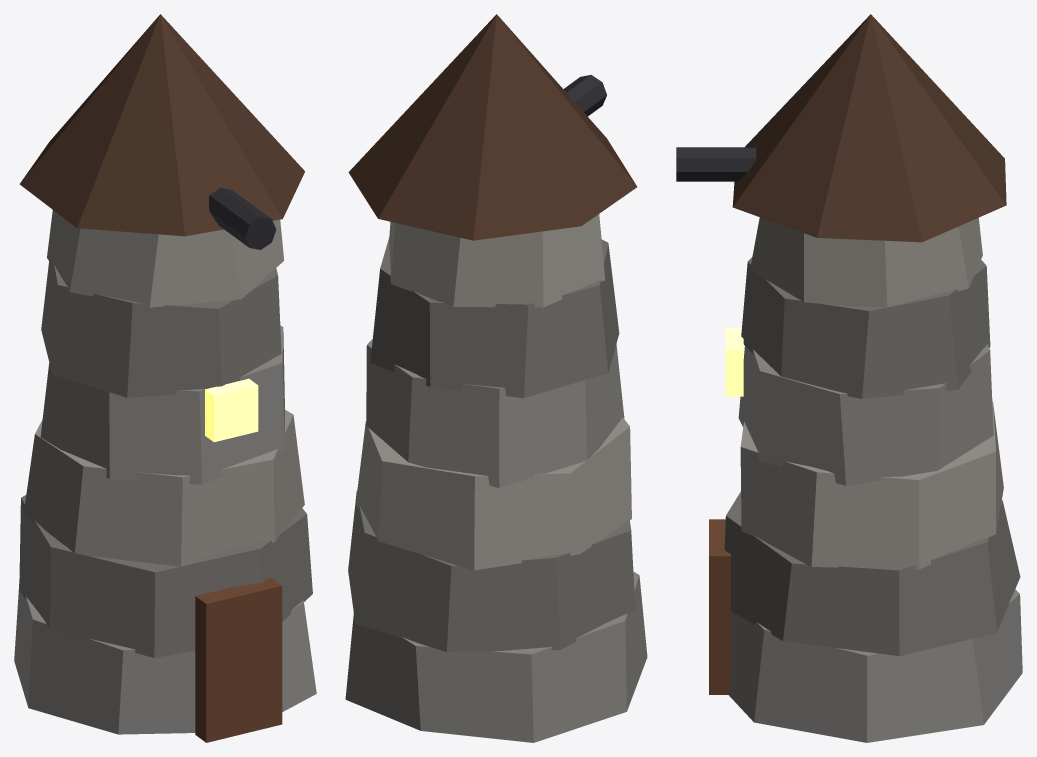
Rendered from windmill.glb.
3 renders of one model, left to right at view 1: azimuth 30°, elevation 25°; view 2: azimuth 150°, elevation 25°; view 3: azimuth 270°, elevation 25°, orthographic.
Parts seen in each view (by area): view 1: windmill; view 2: windmill; view 3: windmill.
Boxes of the visible parts, x1,y1,x2,y2 form: windmill: (14, 14, 316, 742); windmill: (345, 14, 647, 742); windmill: (676, 14, 1022, 742).
Size of the model in its own units: 0.8639 by 2.01 by 0.9508.
